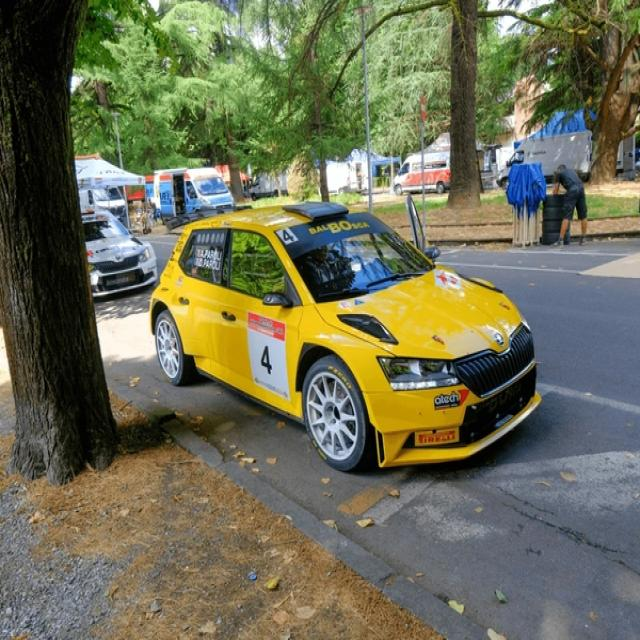skoda: (493, 330, 507, 348)
